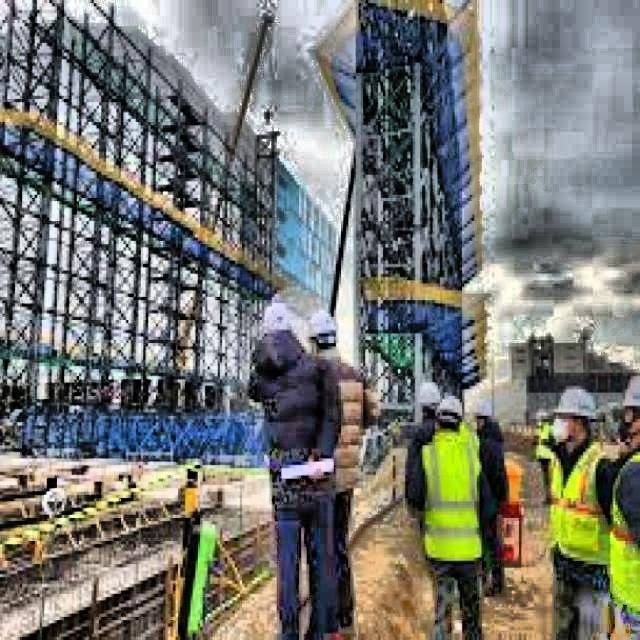bull_dozer/loader/grader: (160, 11, 274, 370)
person: (243, 301, 344, 640), (305, 308, 379, 640), (409, 394, 484, 640), (548, 385, 611, 640), (605, 374, 640, 640), (472, 398, 508, 599), (404, 381, 440, 524), (533, 410, 554, 506)
